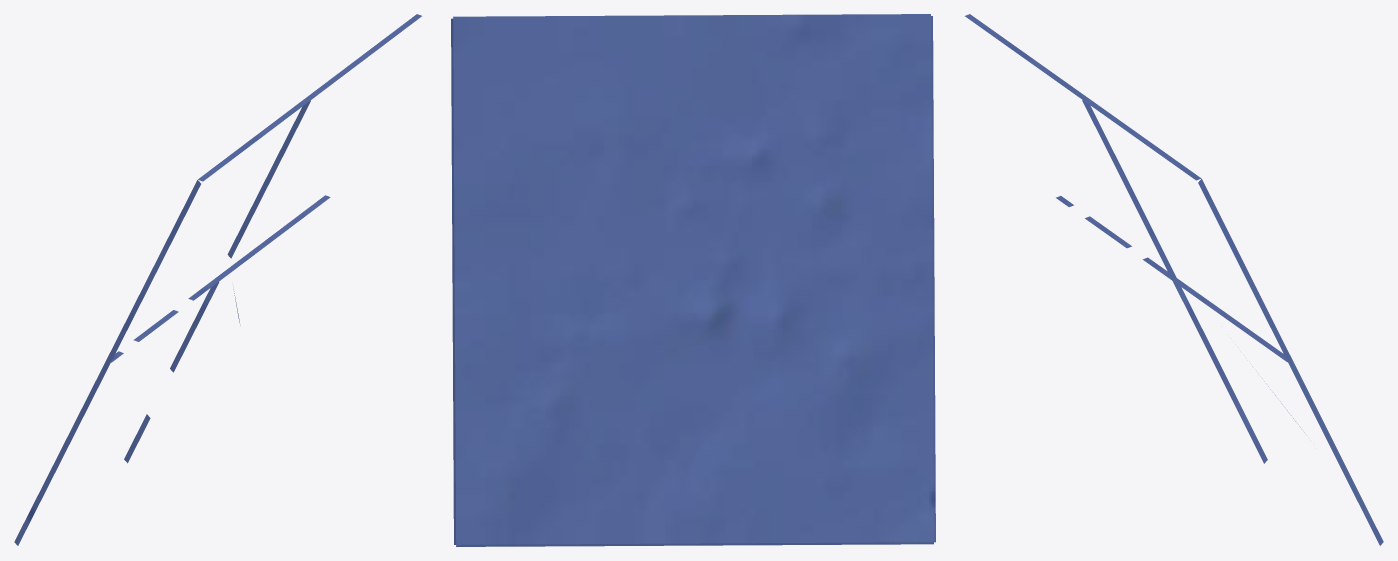
3 renders of one model, left to right at view 1: azimuth 30°, elevation 25°; view 2: azimuth 150°, elevation 25°; view 3: azimuth 270°, elevation 25°, orthographic. The views are drawn at different scales.
Bounding box in the file's own units: 39457 × 35823 × 32960.
1 material, 1 textured.
